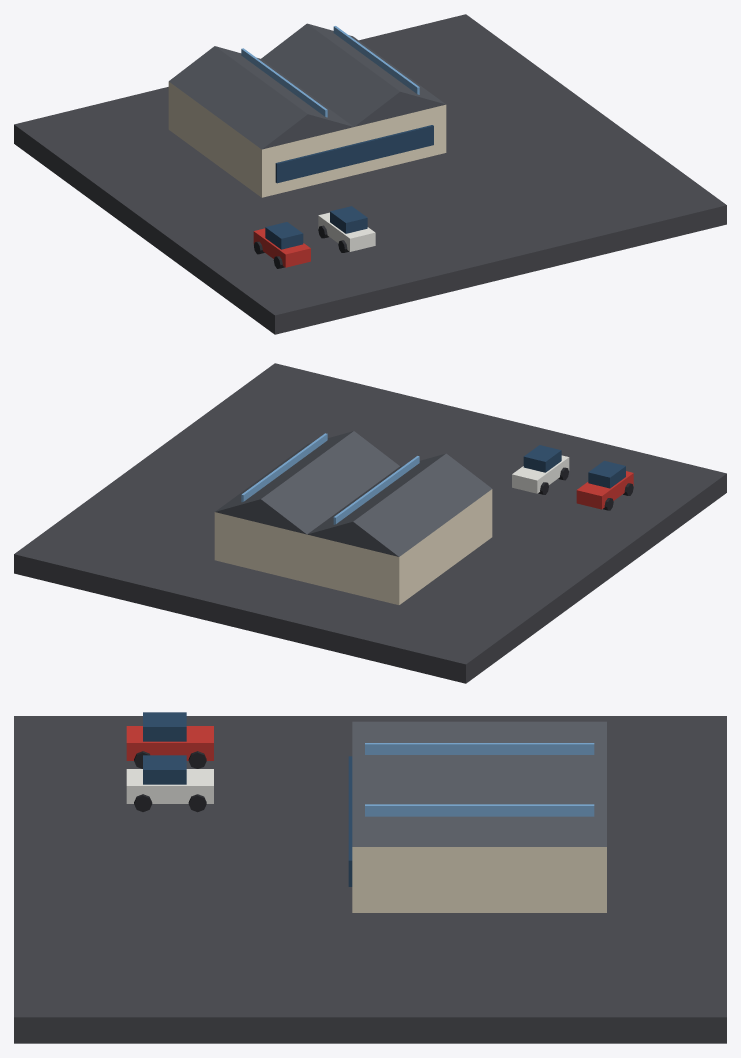
Rendered from auto_rent_1.glb.
3 views of the same model, one above another, from view 1: azimuth 30°, elevation 25°; view 2: azimuth 150°, elevation 25°; view 3: azimuth 270°, elevation 25° (orthographic). The views are drawn at different scales.
Visible parts, largest first — view 1: auto_rent_1; view 2: auto_rent_1; view 3: auto_rent_1.
Boxes of the visible parts, bbox=[...] form: auto_rent_1: bbox=[14, 14, 726, 334]; auto_rent_1: bbox=[14, 363, 726, 683]; auto_rent_1: bbox=[14, 712, 726, 1043].
Size of the model in its own units: 1.96 by 0.38 by 1.96.
